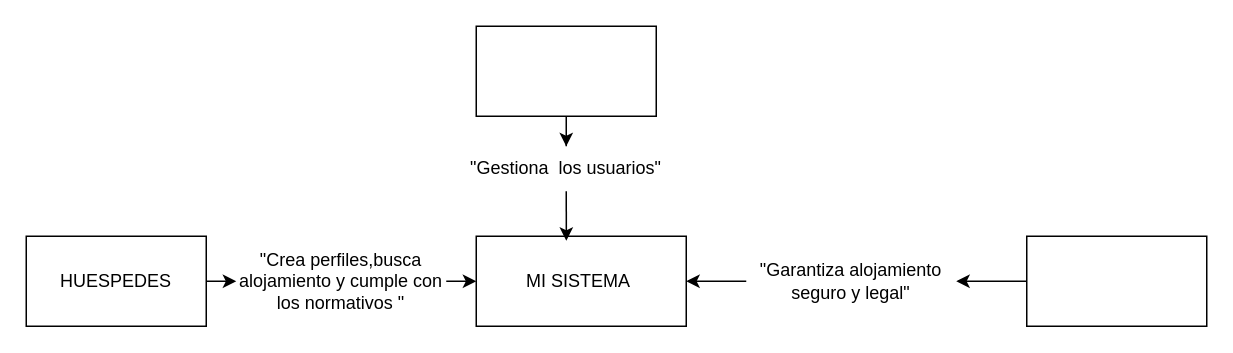
This 1233x353 diagram has some shape labels left out. The centre of each missing label's shape, as x and y in pixels:
"ADMINISTRADORES DE LA PLATAFORMA" goes at point (565, 70).
"ANFITRIONES" goes at point (1116, 280).
